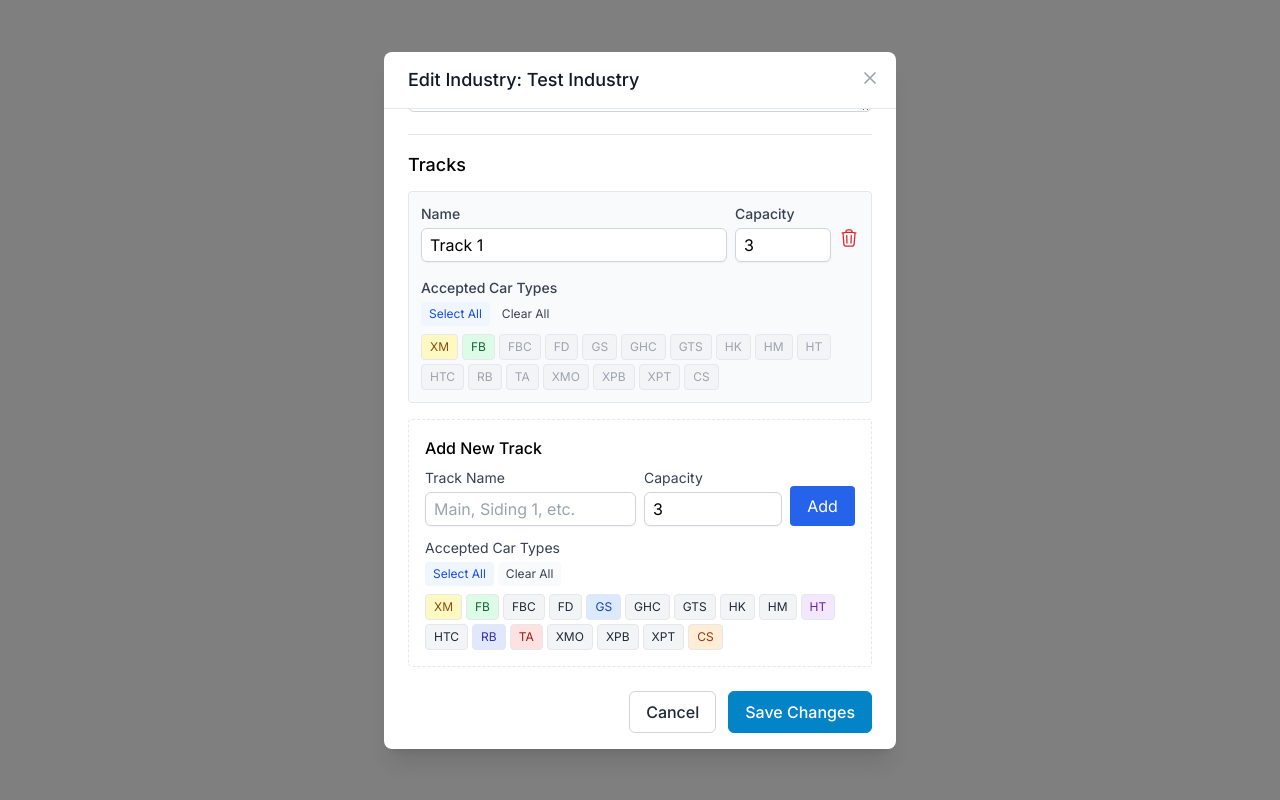
it: EditIndustryModal › shows error when trying to add track without a name
(page scrolled)
Note: Try to add the track
Click the button "Add".
click(822, 506)  # box [790,486,855,526]
(page scrolled)
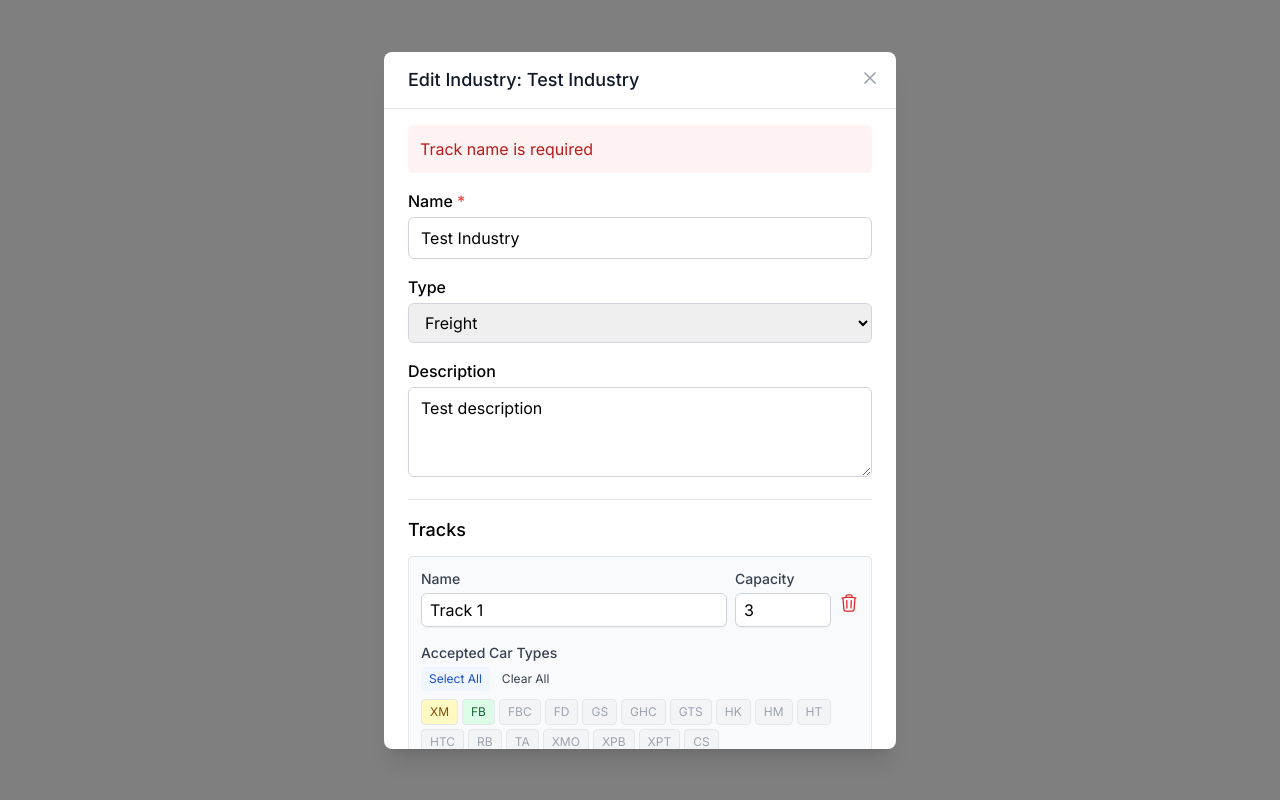
Result: the text "Track name is required" is shown at [408,124,872,172]
